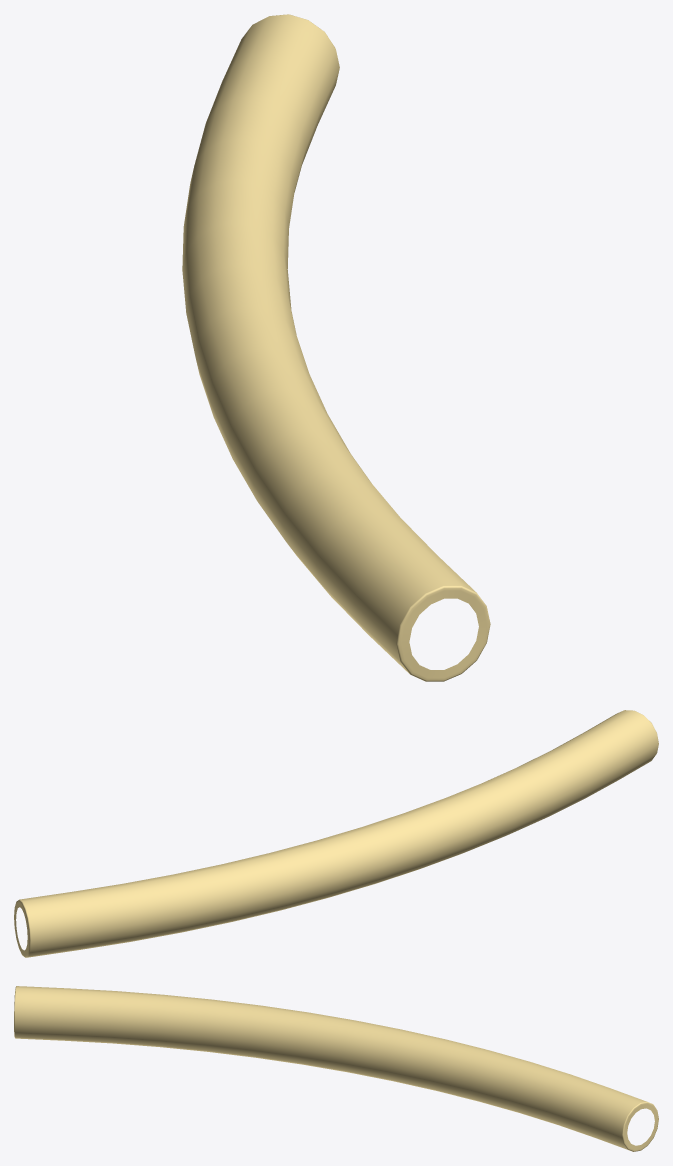
Rendered from BlissBar_Small.glb.
3 views of the same model, one above another, from view 1: azimuth 30°, elevation 25°; view 2: azimuth 150°, elevation 25°; view 3: azimuth 270°, elevation 25° (orthographic). The views are drawn at different scales.
Visible parts, largest first — view 1: Bliss_Bar_Small; view 2: Bliss_Bar_Small; view 3: Bliss_Bar_Small.
Boxes of the visible parts, x1,y1,x2,y2 form: Bliss_Bar_Small: [182, 14, 490, 681]; Bliss_Bar_Small: [14, 710, 658, 957]; Bliss_Bar_Small: [14, 986, 658, 1151].
Bounding box in the file's own units: 0.0111 × 0.00185 × 0.0226.
